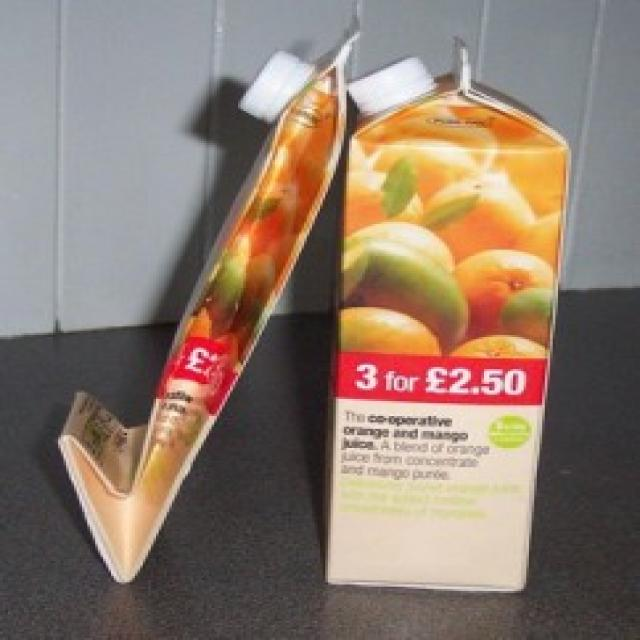cardboard: (53, 21, 345, 582), (330, 37, 565, 593)
